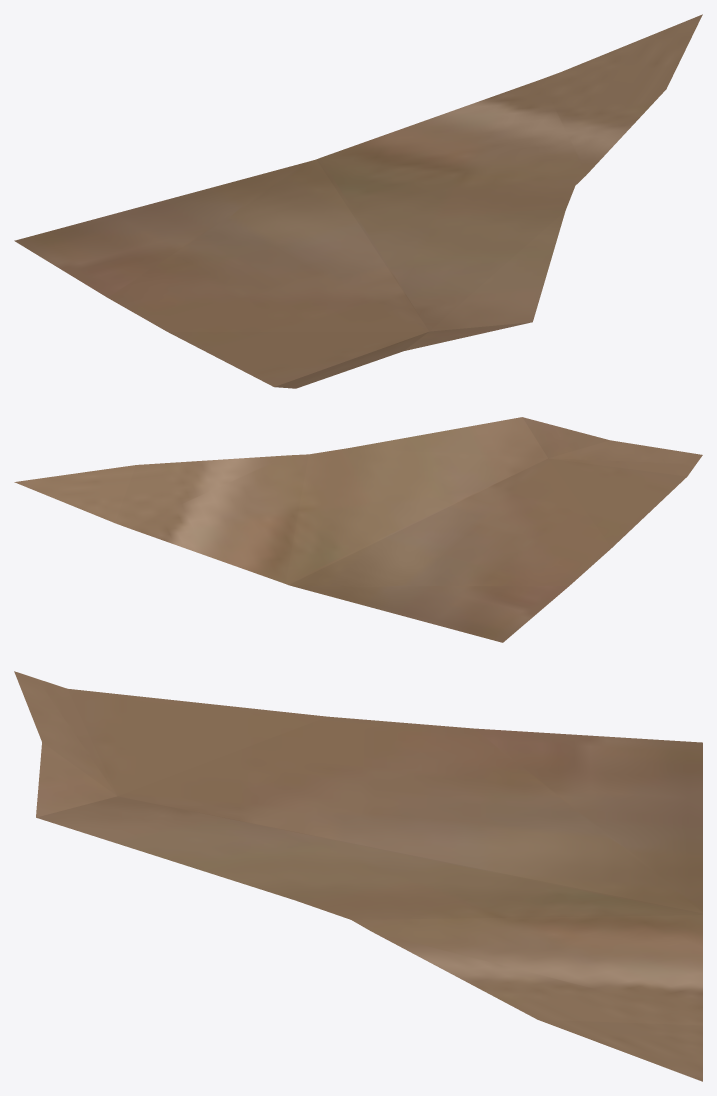
3 renders of one model, top to bottom at view 1: azimuth 30°, elevation 25°; view 2: azimuth 150°, elevation 25°; view 3: azimuth 270°, elevation 25°, orthographic. The views are drawn at different scales.
Bounding box in the file's own units: 0.1325 × 0.0107 × 0.0939.
Materials: 1 (1 with a texture image).
